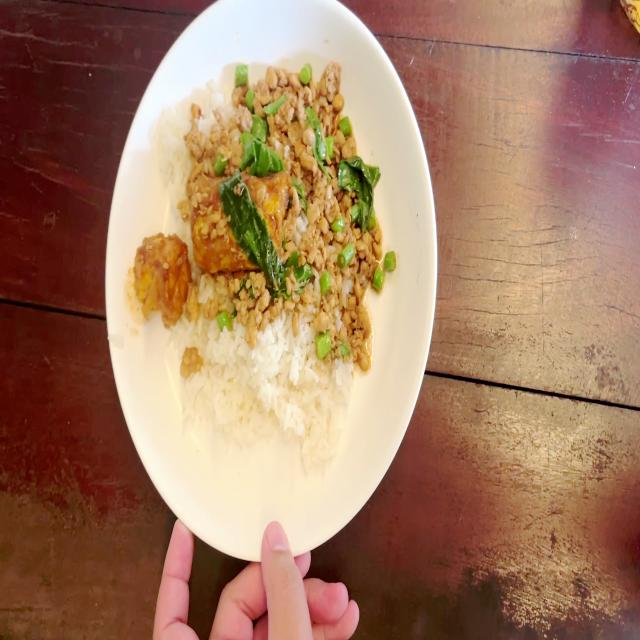fried_tofo: (190, 172, 290, 264), (135, 232, 188, 320)
minced_pork: (290, 58, 396, 275), (180, 57, 290, 174), (188, 272, 384, 324)
rice: (170, 319, 352, 457), (158, 89, 190, 193), (197, 76, 224, 122)
stir_fried_basil: (127, 62, 399, 470)
